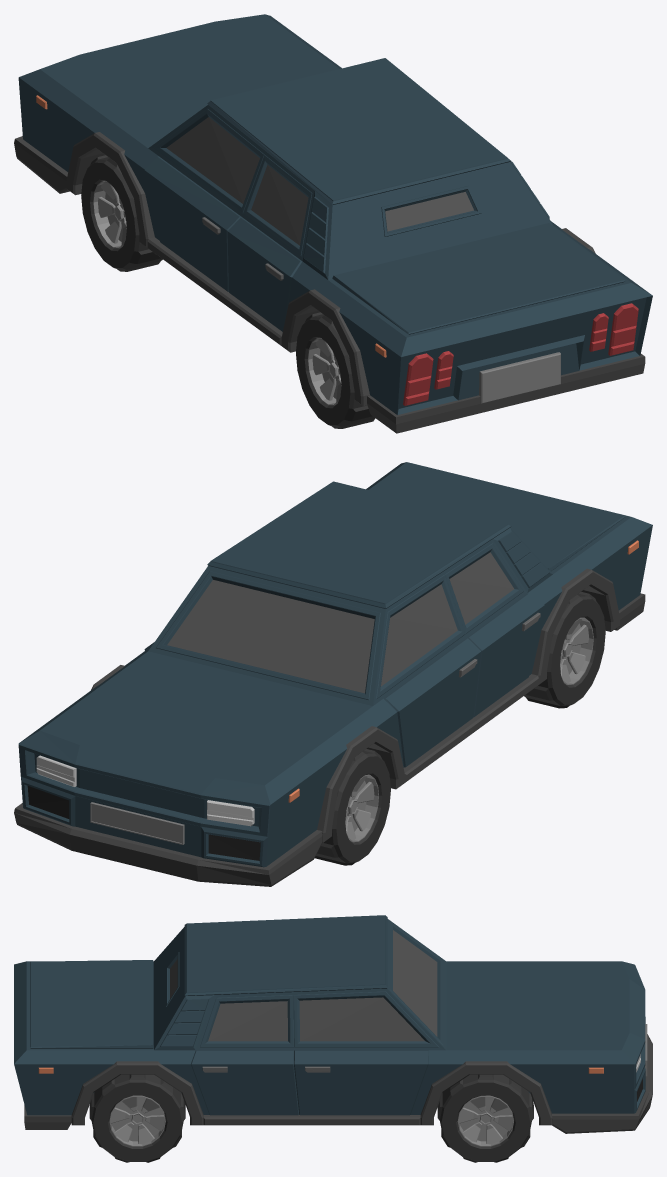
File: lp-sedan-red.glb
3 views of the same model, one above another, from view 1: azimuth 30°, elevation 25°; view 2: azimuth 150°, elevation 25°; view 3: azimuth 270°, elevation 25° (orthographic). The views are drawn at different scales.
Parts seen in each view (by area): view 1: lp-sedan-red; view 2: lp-sedan-red; view 3: lp-sedan-red.
Part boxes in pixels (bbox=[...]): lp-sedan-red: bbox=[14, 14, 652, 433]; lp-sedan-red: bbox=[14, 462, 652, 886]; lp-sedan-red: bbox=[14, 915, 652, 1162].
Bounding box in the file's own units: 1.9 × 1.42 × 4.98.
Materials: 1 (1 with a texture image).
